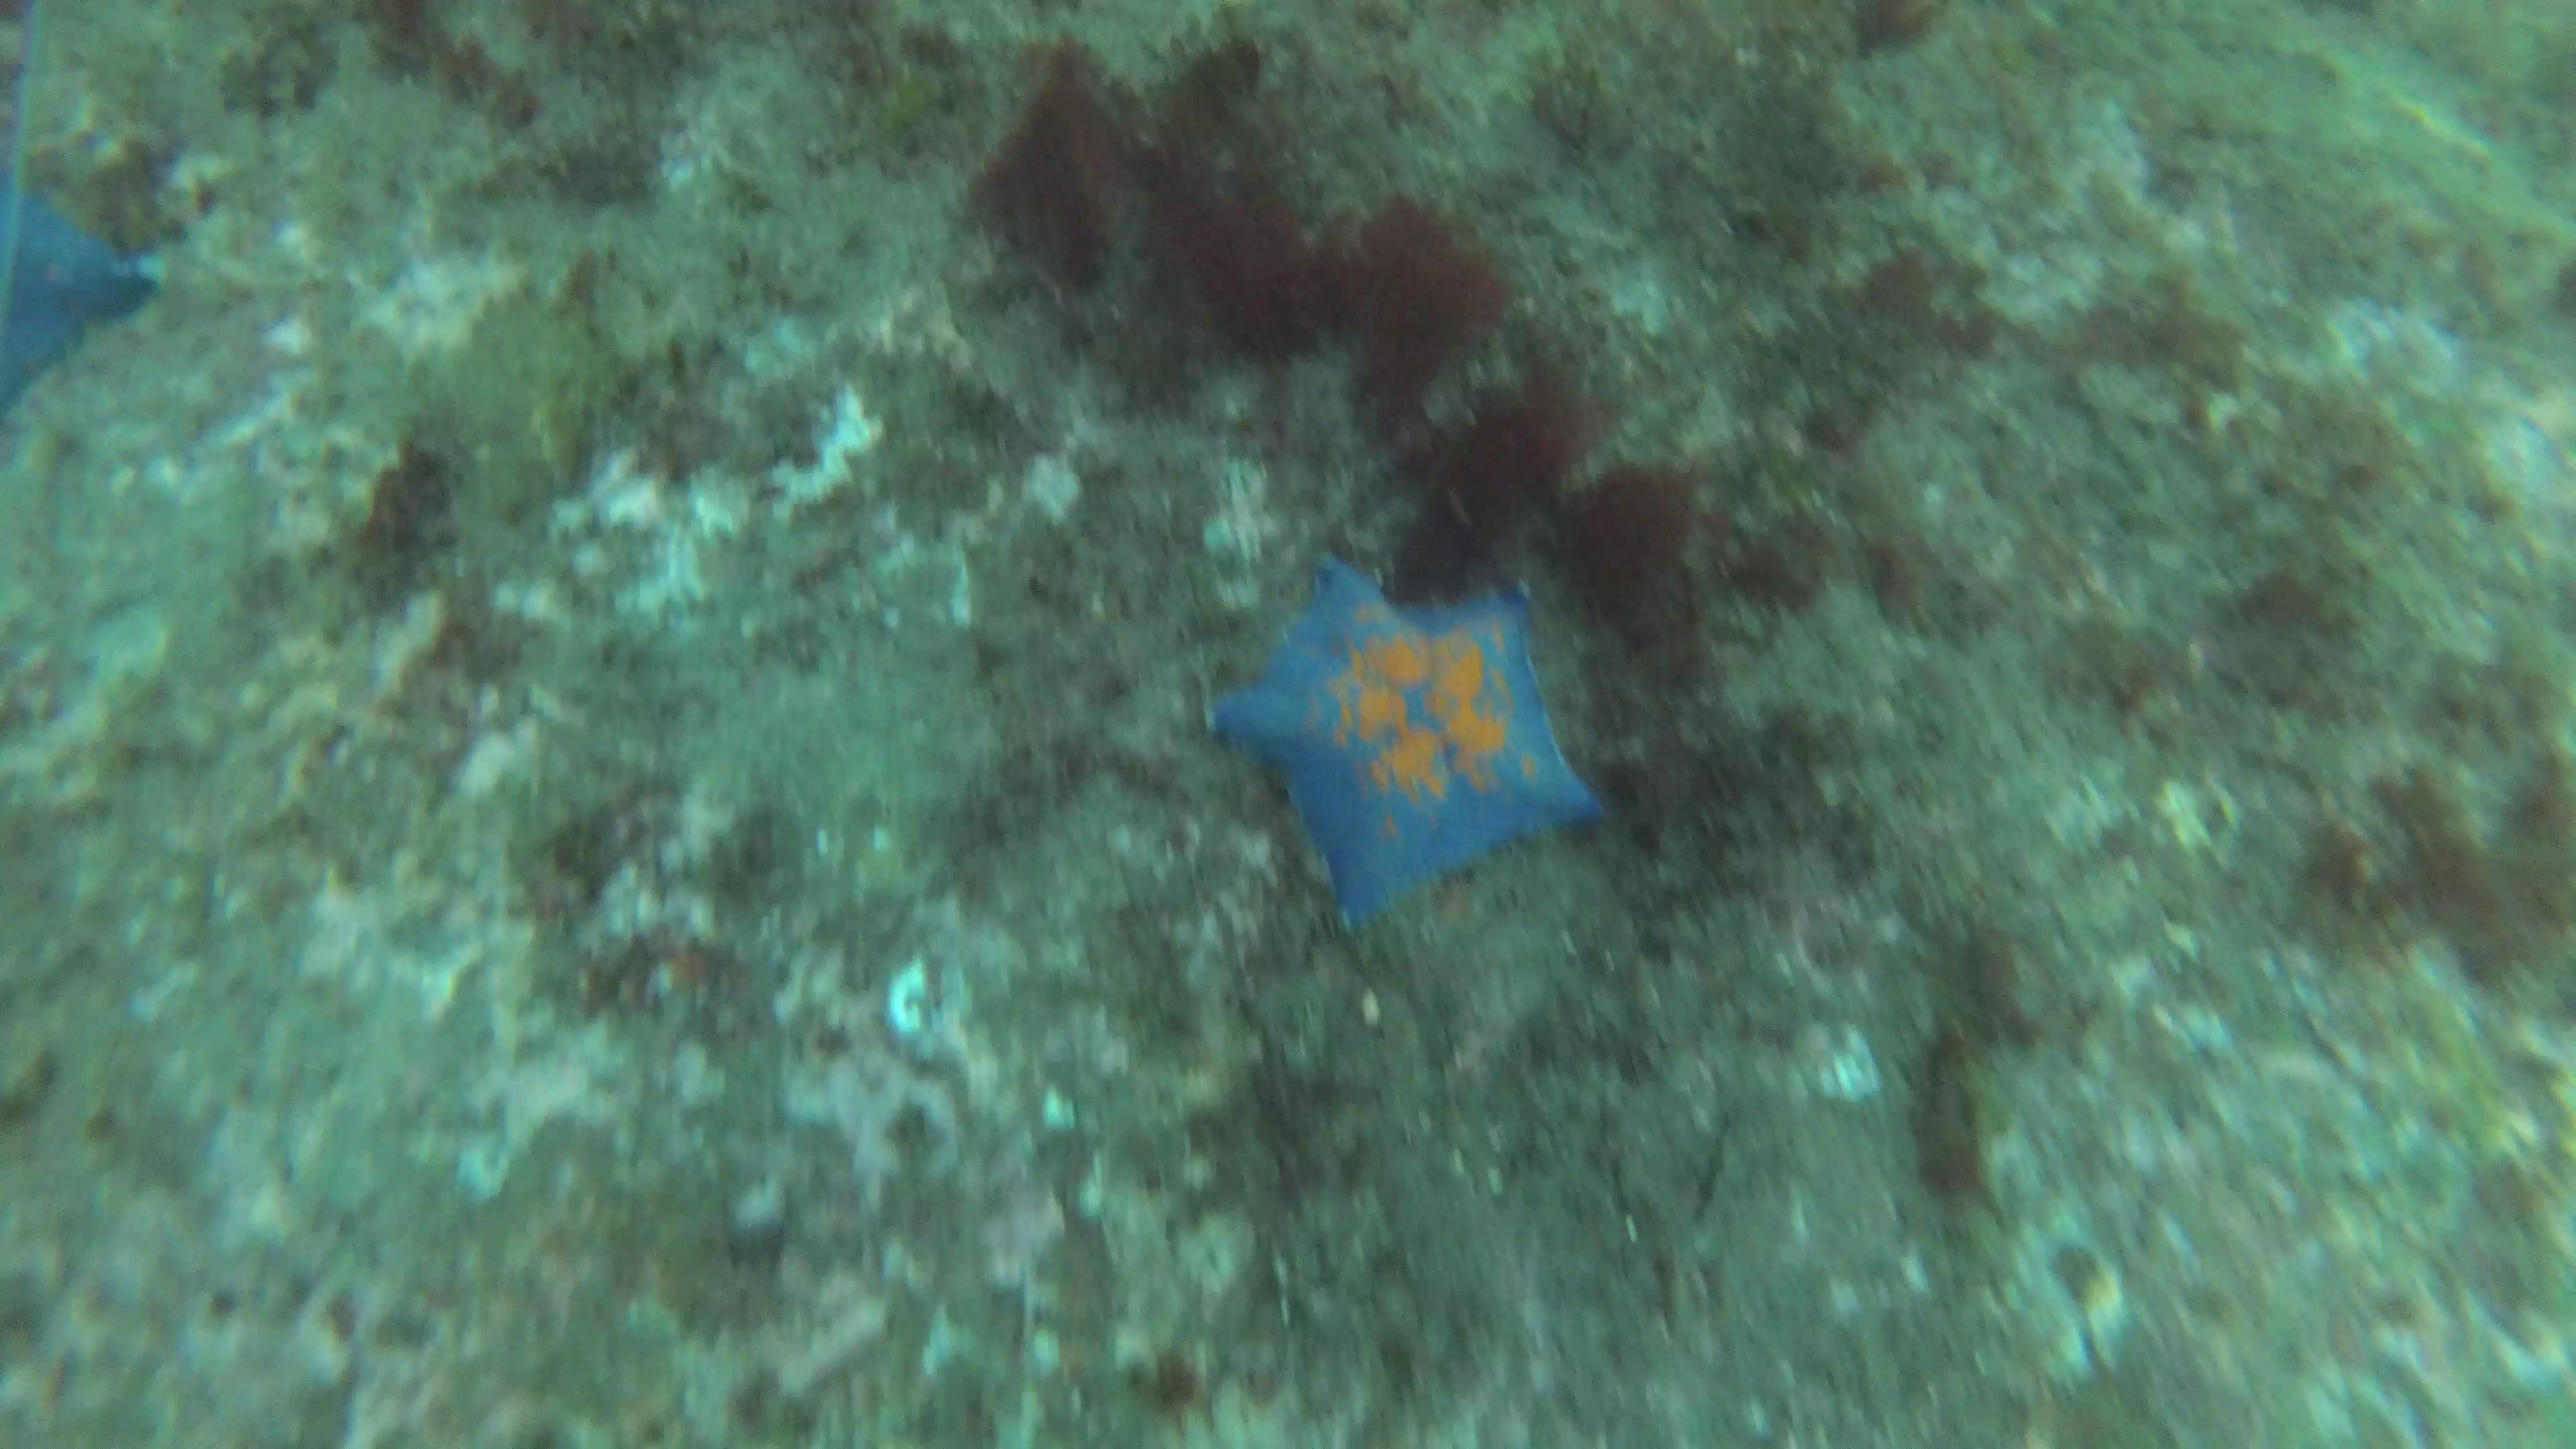starfish: (1219, 564, 1594, 918), (0, 173, 157, 425)
